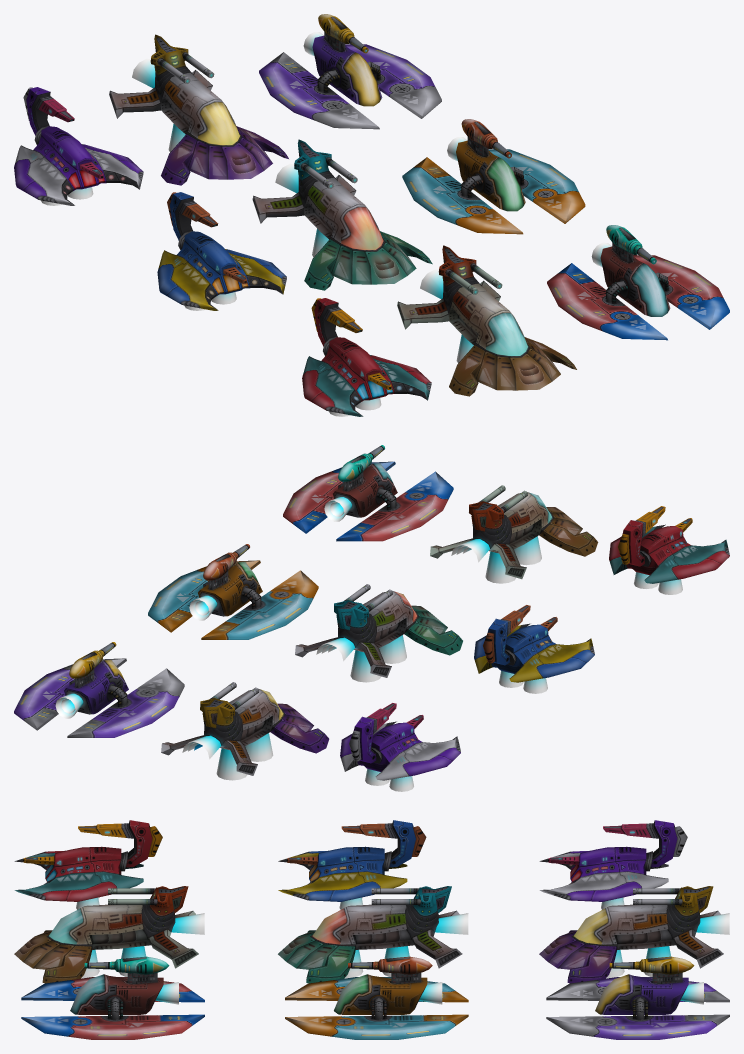
File: SciFi_StarShips Set 1.FBX
The picture shows the model from 3 angles, top to bottom: view 1: azimuth 30°, elevation 25°; view 2: azimuth 150°, elevation 25°; view 3: azimuth 270°, elevation 25°; orthographic projection. The views are drawn at different scales.
Visible parts, largest first — view 1: SciFi Starship 2.2, SciFi Starship 2.3, SciFi Starship 2, SciFi Starship 1.2, SciFi Starship 1, SciFi Starship 1.3, SciFi Starship 3.3, SciFi Starship 3.2, SciFi Starship 3; view 2: SciFi Starship 2, SciFi Starship 2.3, SciFi Starship 2.2, SciFi Starship 1, SciFi Starship 1.3, SciFi Starship 1.2, SciFi Starship 3.2, SciFi Starship 3.3, SciFi Starship 3, SciFi starship 1.2_highligh 004, SciFi starship 1.3_highligh 008, SciFi starship 1_highligh 001; view 3: SciFi Starship 1.2, SciFi Starship 1.3, SciFi Starship 1, SciFi Starship 2.2, SciFi Starship 2, SciFi Starship 2.3, SciFi Starship 3.2, SciFi Starship 3.3, SciFi Starship 3, SciFi starship 1.2_highligh 003, SciFi starship 1.3zz_highligh 007, SciFi starship 1_highligh (+3 smaller).
Part boxes in pixels (left/top/right/bottom): SciFi Starship 2.2: left=402, top=119, right=585, bottom=234; SciFi Starship 2.3: left=259, top=14, right=441, bottom=129; SciFi Starship 2: left=547, top=225, right=729, bottom=340; SciFi Starship 1.2: left=252, top=139, right=432, bottom=290; SciFi Starship 1: left=397, top=245, right=576, bottom=396; SciFi Starship 1.3: left=109, top=34, right=288, bottom=185; SciFi Starship 3.3: left=14, top=87, right=143, bottom=205; SciFi Starship 3.2: left=157, top=192, right=286, bottom=310; SciFi Starship 3: left=302, top=298, right=431, bottom=416; SciFi Starship 2: left=283, top=445, right=453, bottom=541; SciFi Starship 2.3: left=14, top=642, right=184, bottom=737; SciFi Starship 2.2: left=148, top=544, right=318, bottom=639; SciFi Starship 1: left=430, top=485, right=598, bottom=579; SciFi Starship 1.3: left=161, top=682, right=329, bottom=775; SciFi Starship 1.2: left=295, top=584, right=462, bottom=677; SciFi Starship 3.2: left=474, top=605, right=594, bottom=682; SciFi Starship 3.3: left=340, top=703, right=460, bottom=780; SciFi Starship 3: left=609, top=506, right=729, bottom=583; SciFi starship 1.2_highligh 004: left=350, top=650, right=381, bottom=682; SciFi starship 1.3_highligh 008: left=216, top=748, right=247, bottom=780; SciFi starship 1_highligh 001: left=485, top=551, right=515, bottom=583; SciFi Starship 1.2: left=278, top=886, right=462, bottom=983; SciFi Starship 1.3: left=539, top=886, right=723, bottom=983; SciFi Starship 1: left=14, top=886, right=198, bottom=983; SciFi Starship 2.2: left=285, top=956, right=468, bottom=1039; SciFi Starship 2: left=21, top=956, right=204, bottom=1039; SciFi Starship 2.3: left=546, top=956, right=729, bottom=1039; SciFi Starship 3.2: left=278, top=820, right=426, bottom=901; SciFi Starship 3.3: left=539, top=820, right=687, bottom=901; SciFi Starship 3: left=14, top=820, right=162, bottom=901; SciFi starship 1.2_highligh 003: left=435, top=913, right=468, bottom=934; SciFi starship 1.3zz_highligh 007: left=696, top=913, right=729, bottom=934; SciFi starship 1_highligh: left=171, top=913, right=204, bottom=934.
Bounding box in the file's own units: 852 × 181 × 1374.
